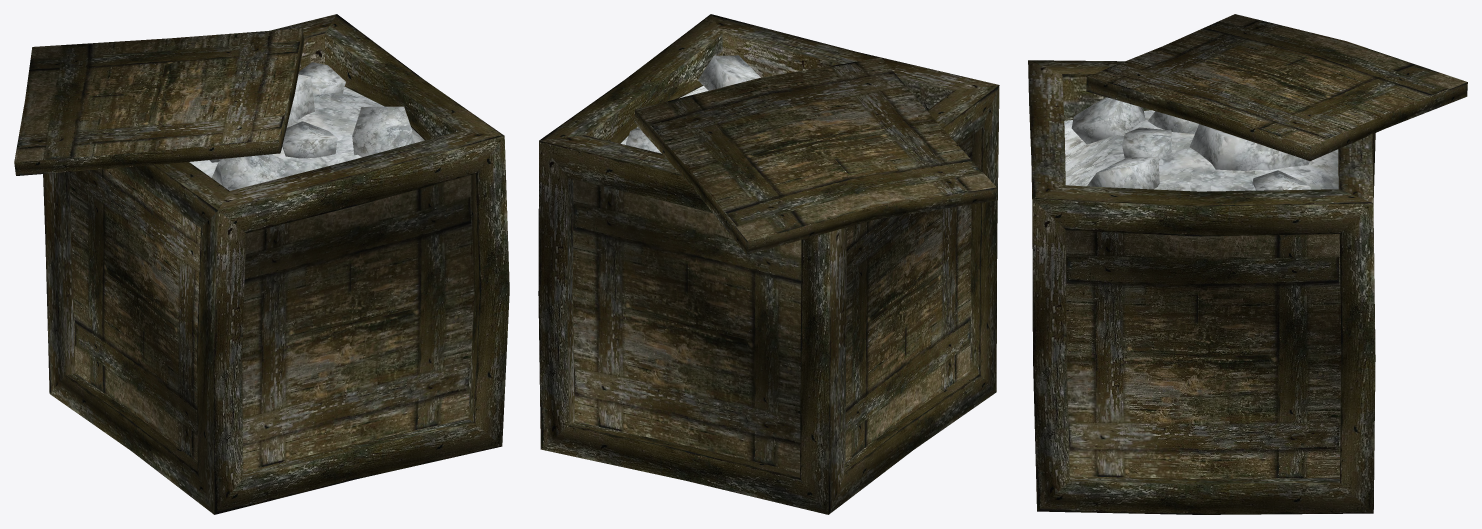
The model's file is KM_VOB_SALT_CHEST_03.glb.
3 views of the same model, side by side, from view 1: azimuth 30°, elevation 25°; view 2: azimuth 150°, elevation 25°; view 3: azimuth 270°, elevation 25° (orthographic).
Visible parts, largest first — view 1: Mesh; view 2: Mesh; view 3: Mesh.
Part boxes in pixels (box(x1,y1,x2,y2)): Mesh: box(14, 14, 509, 514); Mesh: box(538, 14, 999, 514); Mesh: box(1028, 14, 1467, 514).
Bounding box in the file's own units: 1.26 × 1.04 × 1.21.
Materials: 3 (3 with a texture image).
